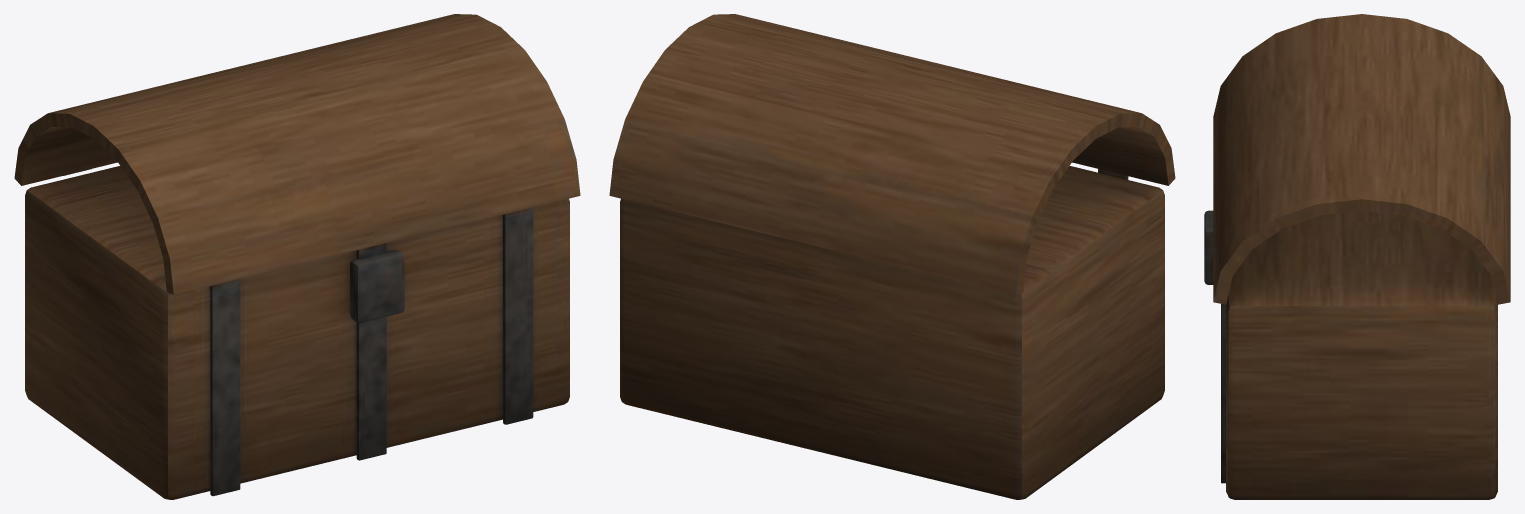
File: chest.glb
The picture shows the model from 3 angles, left to right: view 1: azimuth 30°, elevation 25°; view 2: azimuth 150°, elevation 25°; view 3: azimuth 270°, elevation 25°; orthographic projection. The views are drawn at different scales.
Parts seen in each view (by area): view 1: chest; view 2: chest; view 3: chest.
Boxes of the visible parts, bbox=[...] form: chest: bbox=[14, 14, 580, 499]; chest: bbox=[609, 14, 1175, 499]; chest: bbox=[1204, 14, 1510, 499].
Bounding box in the file's own units: 1 × 0.7656 × 0.6994.
1 material, 1 textured.
